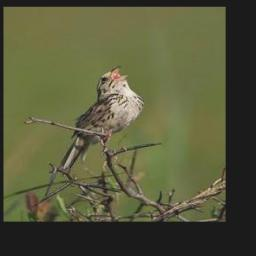Sparrow: (56, 65, 148, 180)
